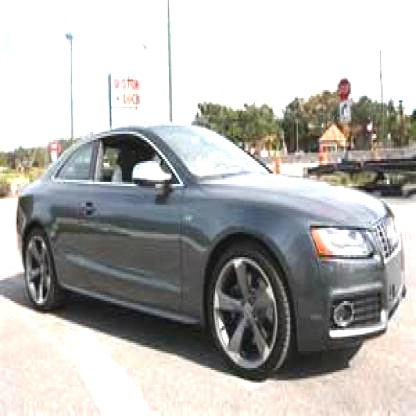Vehicle: (16, 125, 408, 387)
